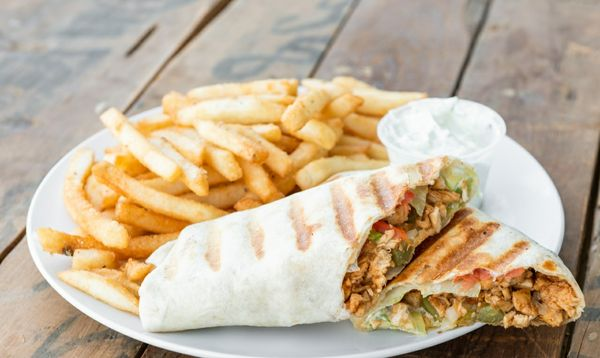soup: (133, 152, 586, 336), (341, 209, 584, 335)
